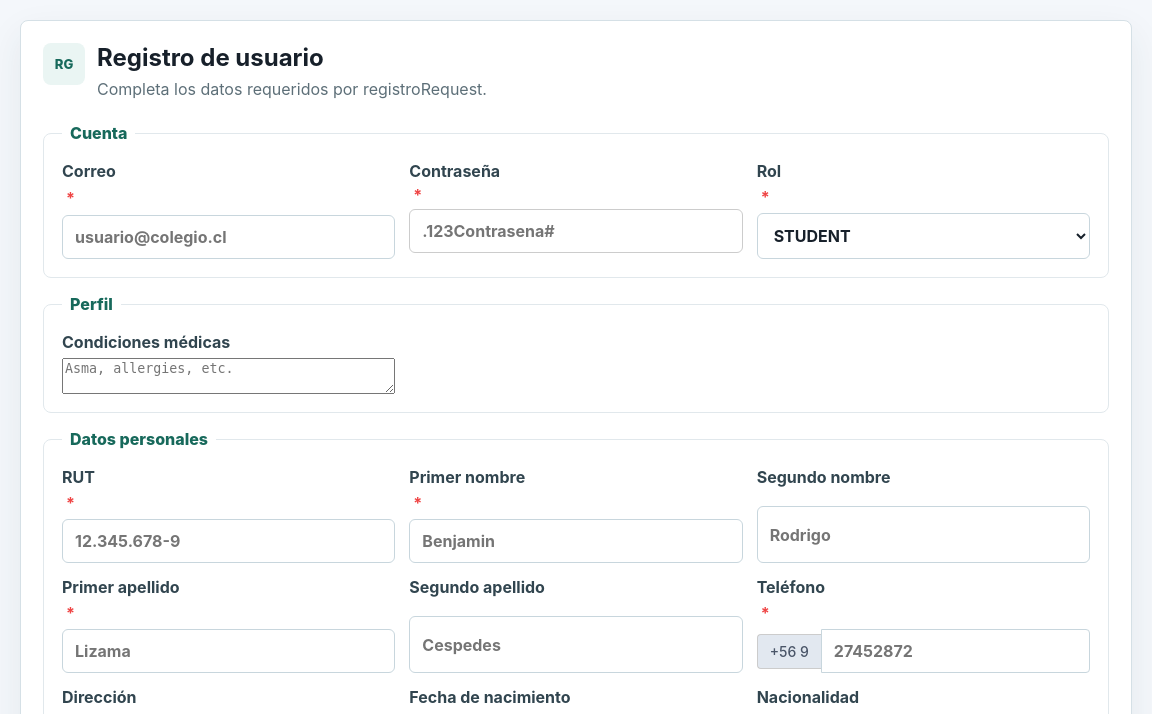
Scenario: Componente RegisterForm › cambia los campos de perfil según el rol seleccionado (PARENT)
The width and height of the screenshot is (1152, 714).
Step 1. Select "PARENT" in the dropdown labelled "Rol *" → (923, 236), box x1=757 y1=213 x2=1090 y2=259
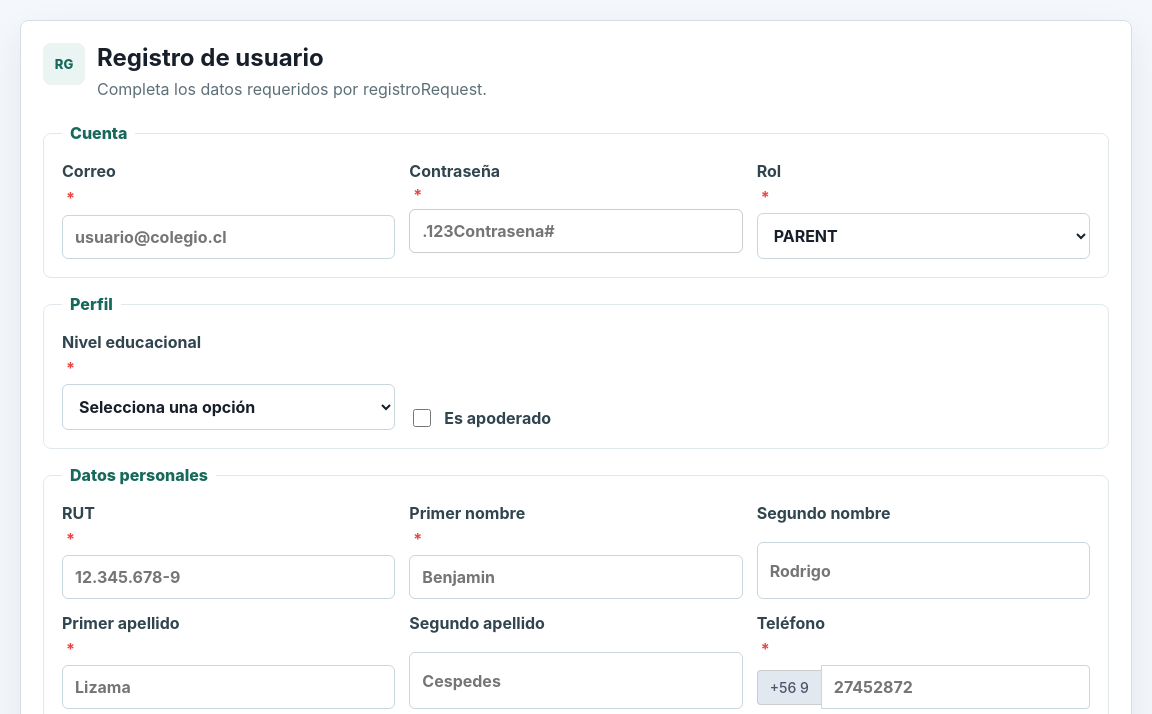
Result: the dropdown labelled "Nivel educacional *" is shown at x1=62 y1=384 x2=395 y2=430
Result: the checkbox labelled "Es apoderado" is shown at x1=413 y1=409 x2=431 y2=427
Result: the label labelled "Condiciones médicas" is gone
